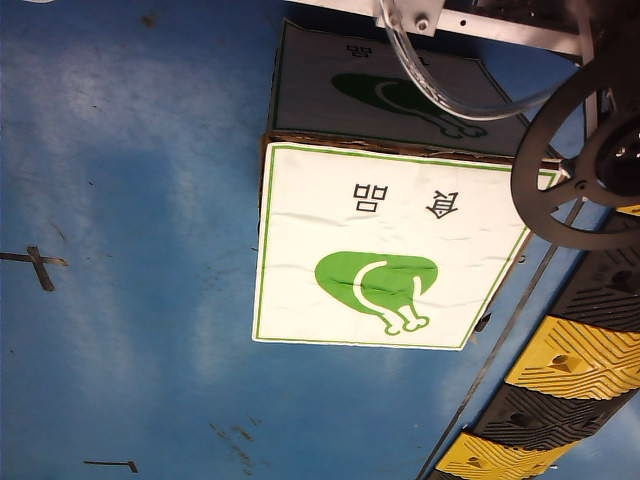Cube_food: (306, 170, 468, 346)
